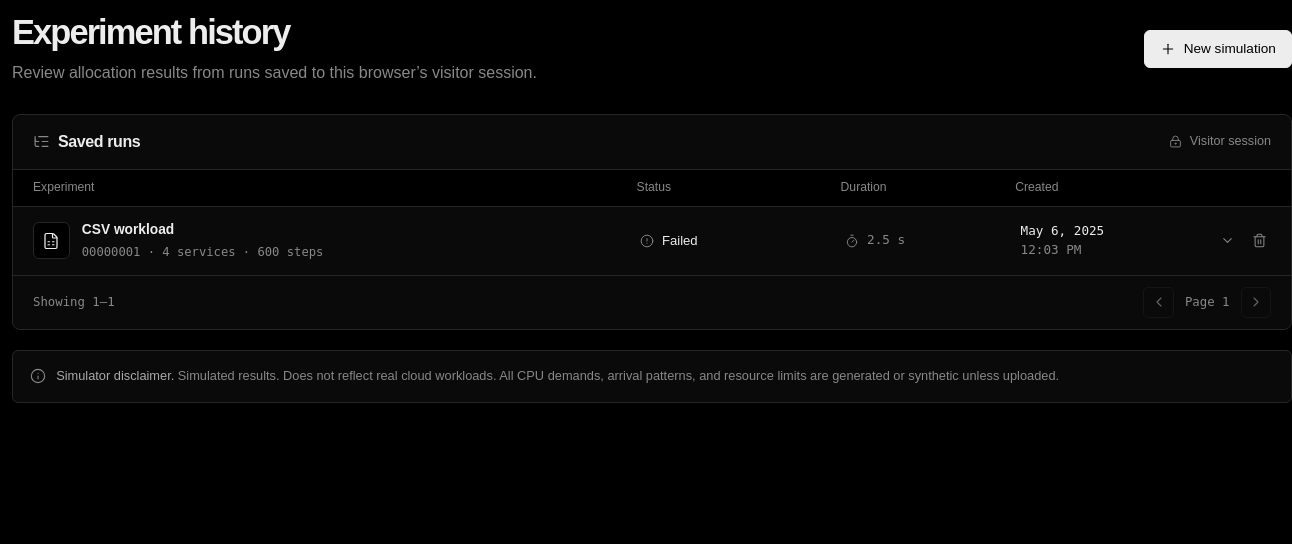
Test case: HistoryPage › displays recorded status and duration, and expands the selected row
Click the button with aria-label "Expand run 00000001-dcaf-4020-9beb-6afe8acfd369" at point(51, 241), box [33,206,1236,275]
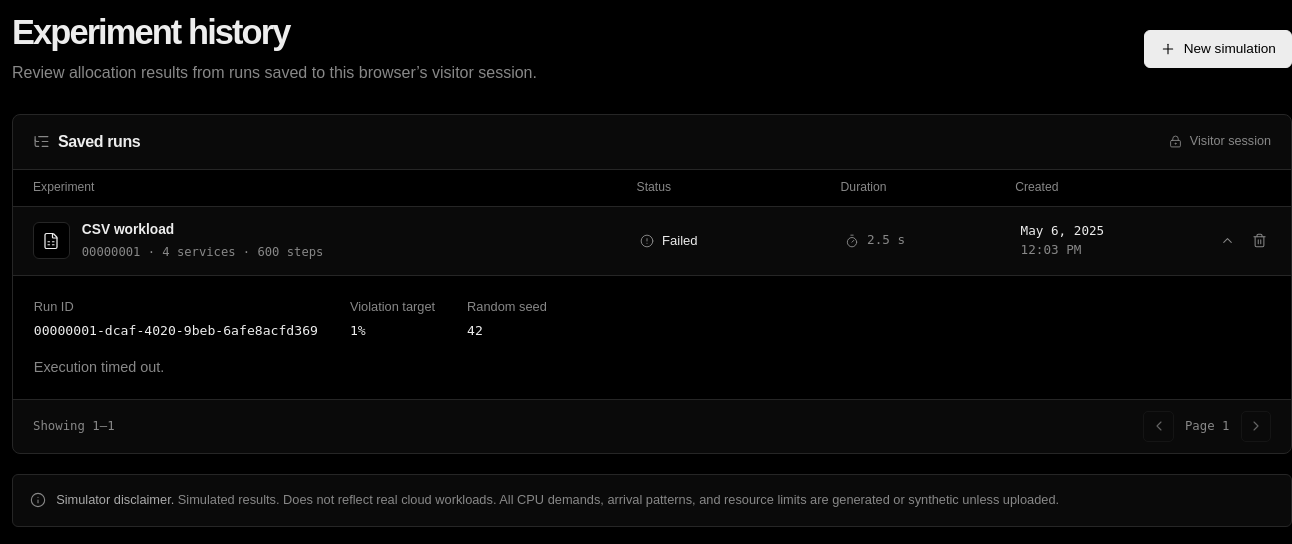
Result: the text "Execution timed out." is shown at [34,359,164,375]
Result: the text "1%" is shown at [350,323,366,338]
Click the button with aria-label "Collapse run 00000001-dcaf-4020-9beb-6afe8acfd369" at point(51, 241), box [33,206,1236,275]
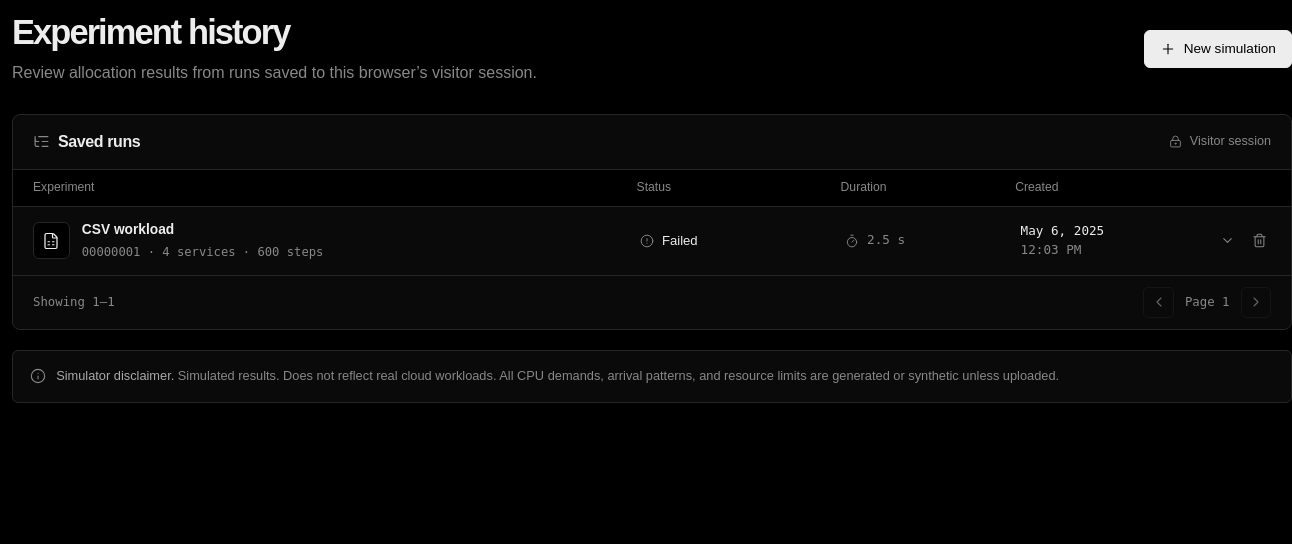
Result: the text "Execution timed out." is gone
